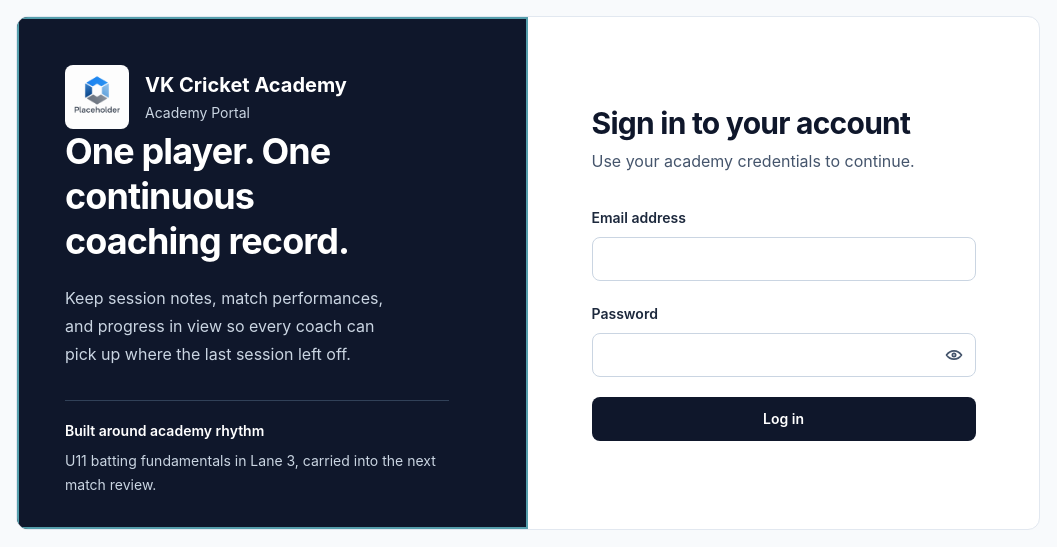
LoginPage › clears only a field's own validation error when that field changes
The image size is (1057, 547).
Step 1. Click the button "Log in" → (784, 419), box [592,397,976,441]
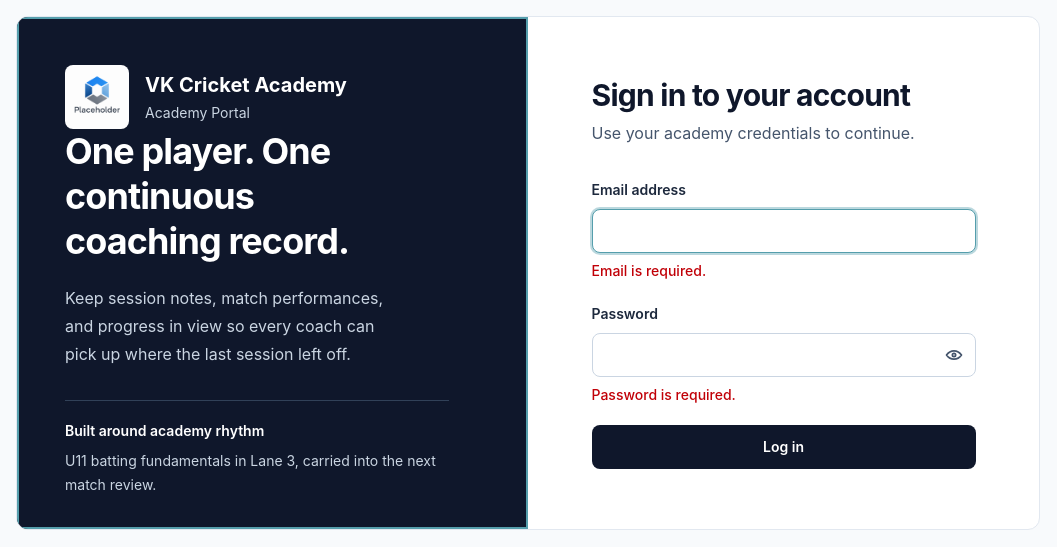
Step 2. Type "StrongPassword!1" into the password field labelled "Password" → (784, 355), box [592,333,976,377]
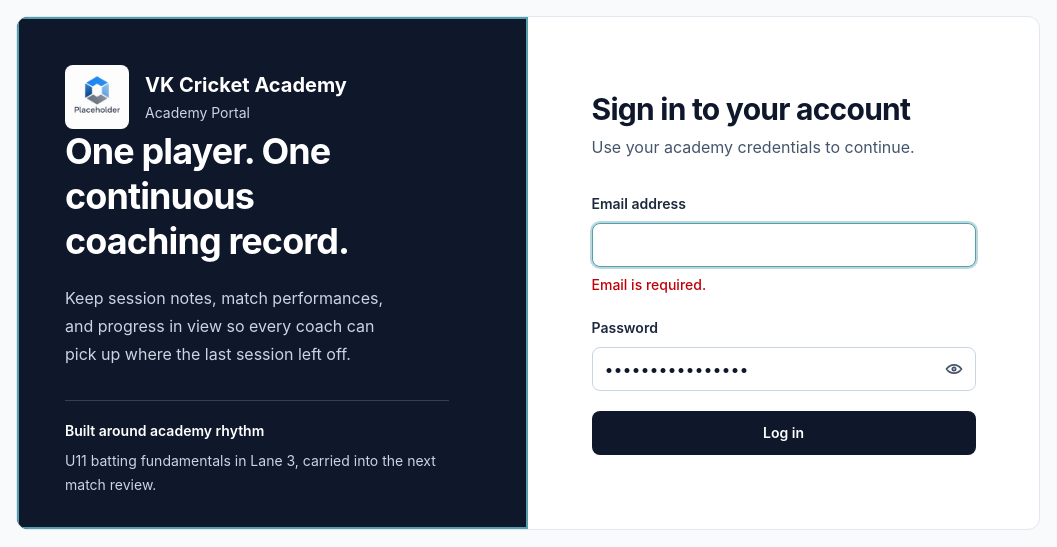
Expected: the text "Email is required." is shown, [592,276,706,293]
Expected: the text "Password is required." is gone
Step 3. Type "coach@vkca.test" into the field labelled "Email address" → (784, 245), box [592,223,976,267]
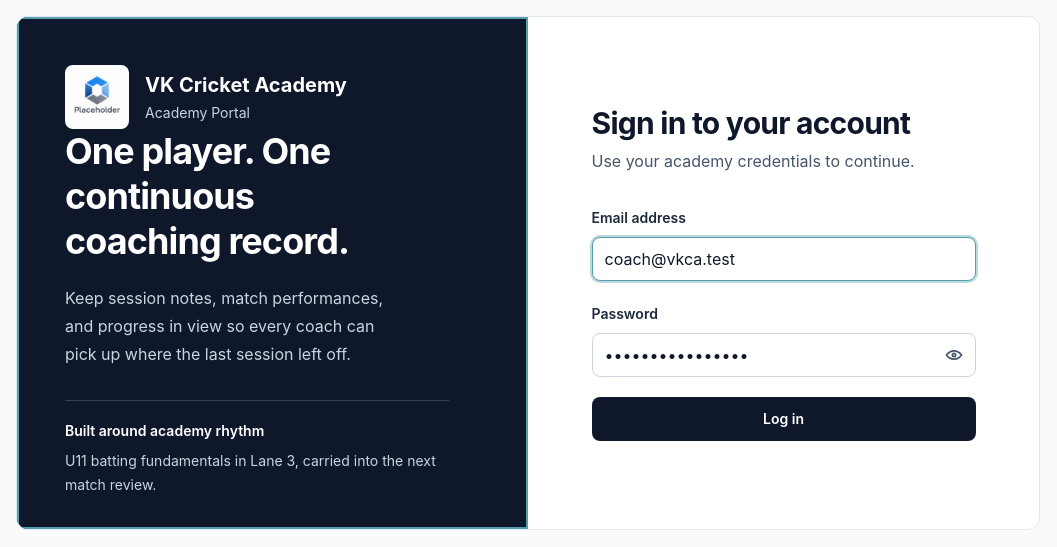
Expected: the text "Email is required." is gone
